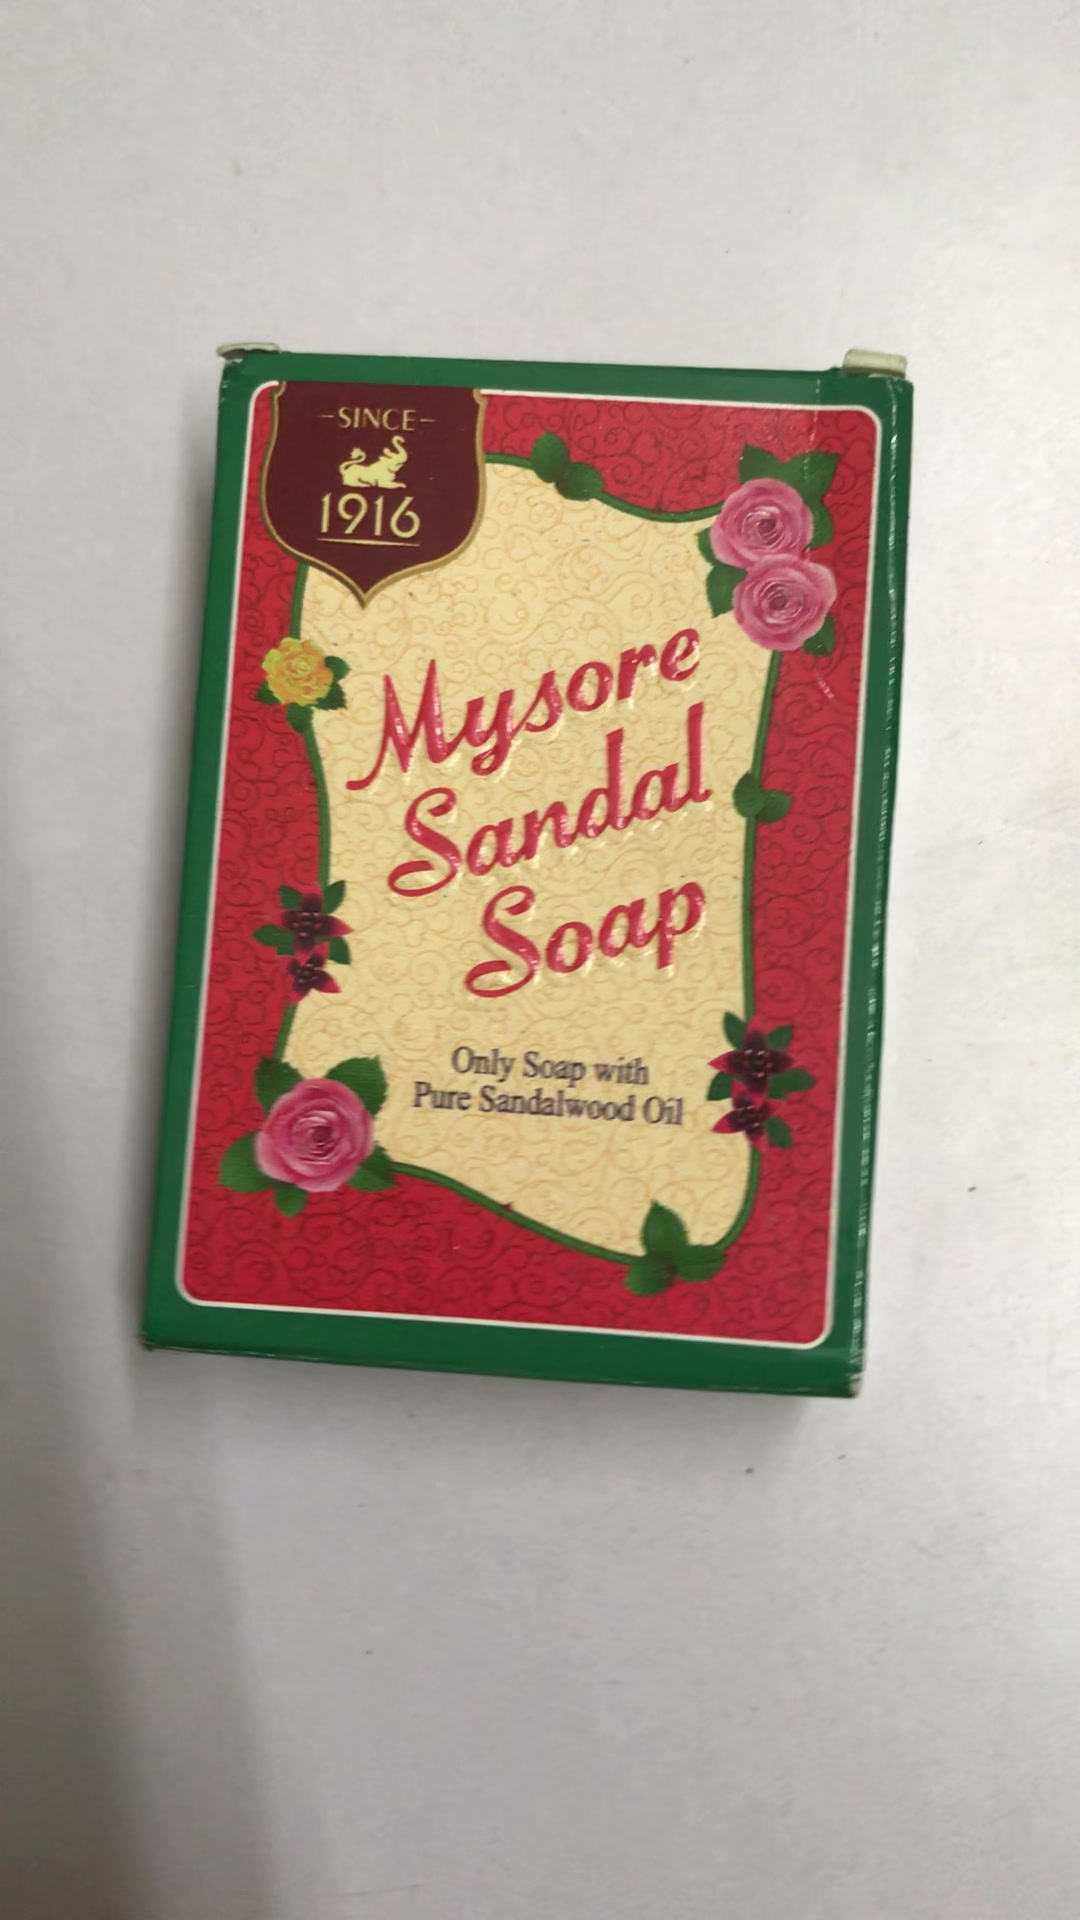mysore sandal soap: (138, 345, 918, 1402)
